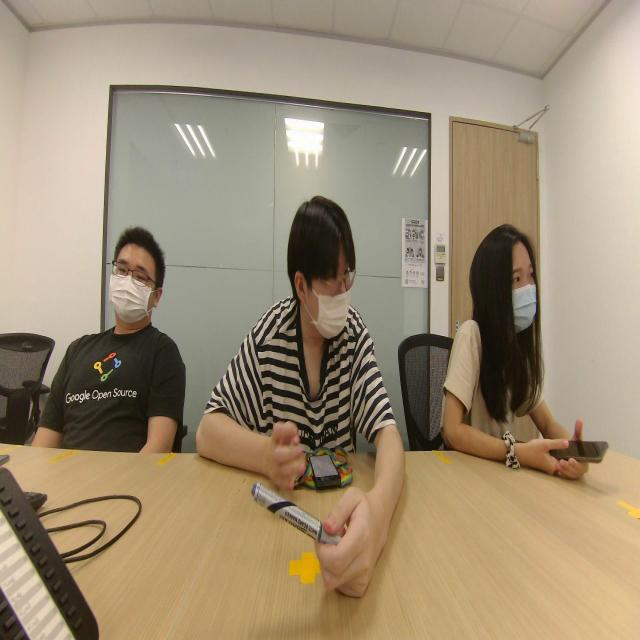obstacle: (221, 170, 378, 459), (61, 190, 192, 449), (429, 213, 556, 444)
